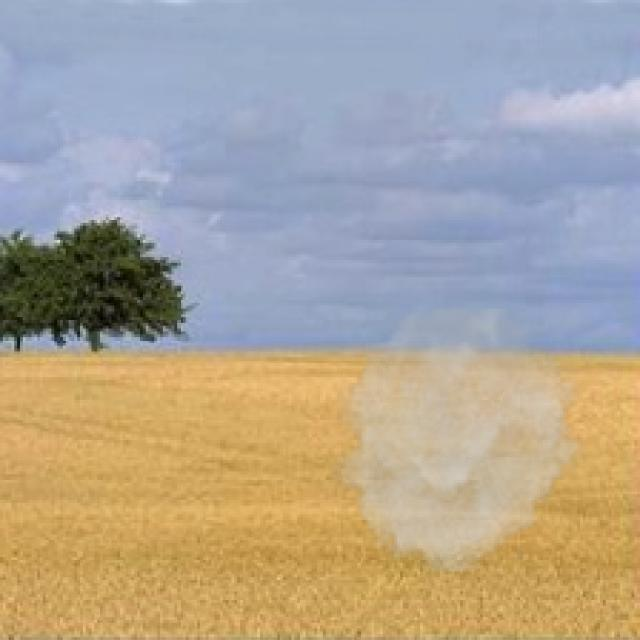smoke: (328, 308, 588, 572)
